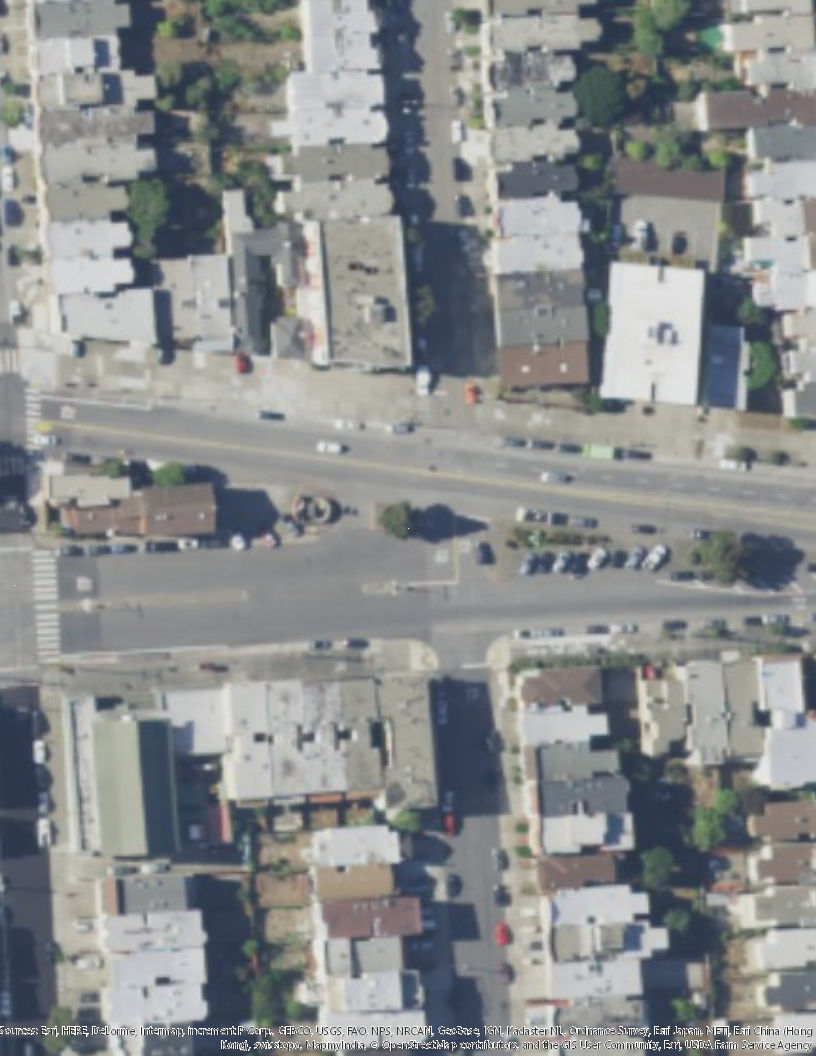zebracross: (33, 555, 64, 658), (22, 384, 43, 463), (1, 459, 29, 480), (1, 352, 20, 374)
